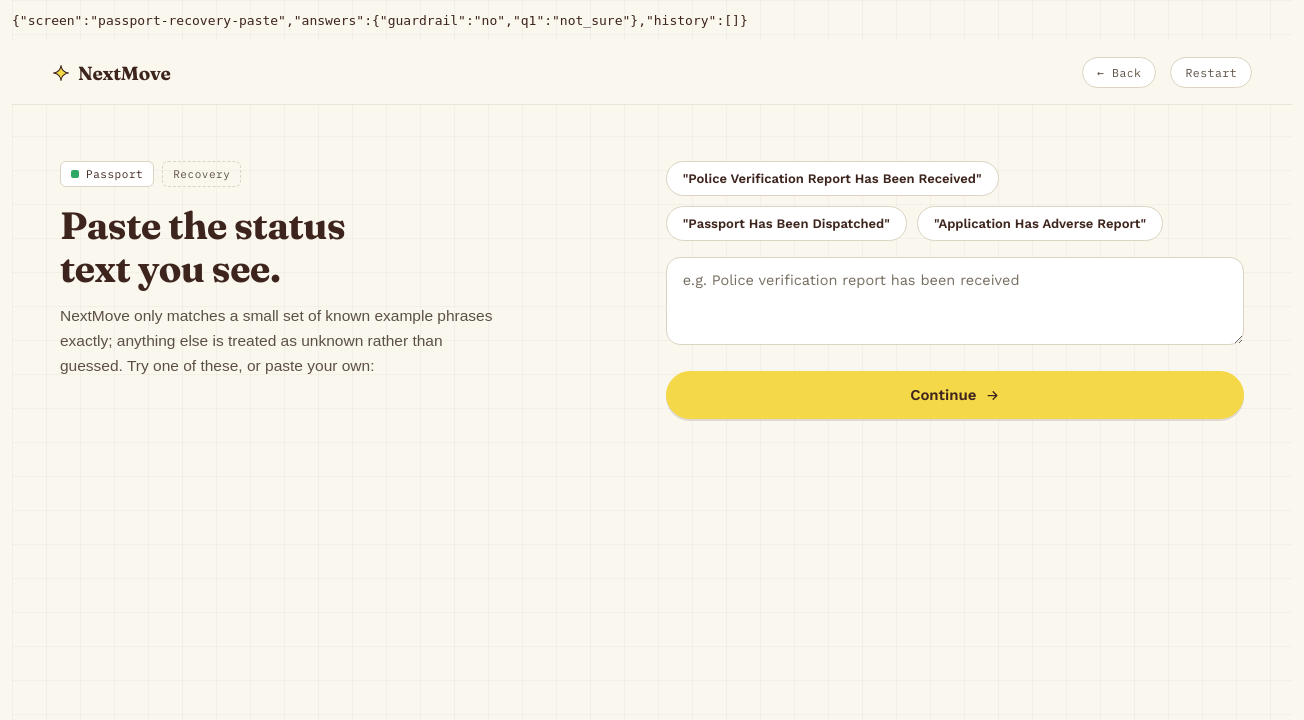
Scenario: passport flow › a matched paste sets q1 and routes to Q2
This screenshot has width=1304, height=720.
Step 1. Type "Police Verification Report Has Been Received" into the text box with placeholder "e.g. Police verification report has been received" → (955, 301), box [666,257,1244,345]
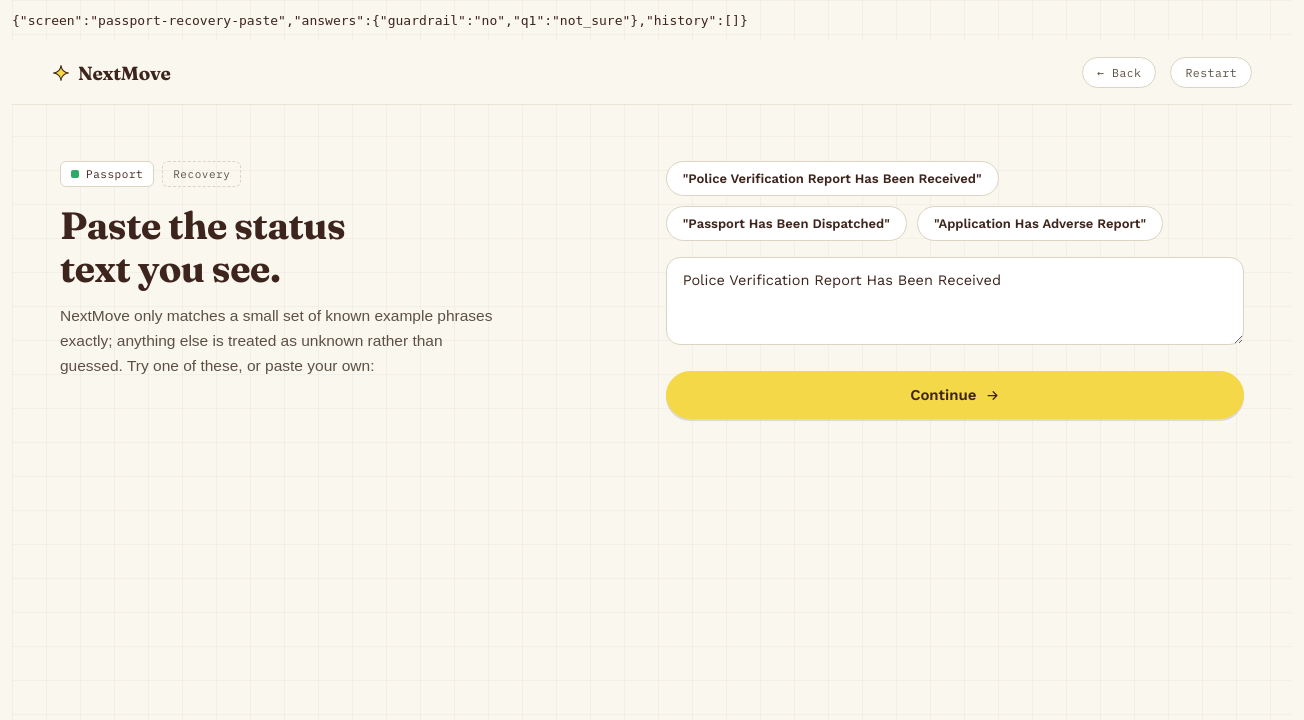
Step 2. Click the button "Continue" → (955, 395), box [666,371,1244,419]
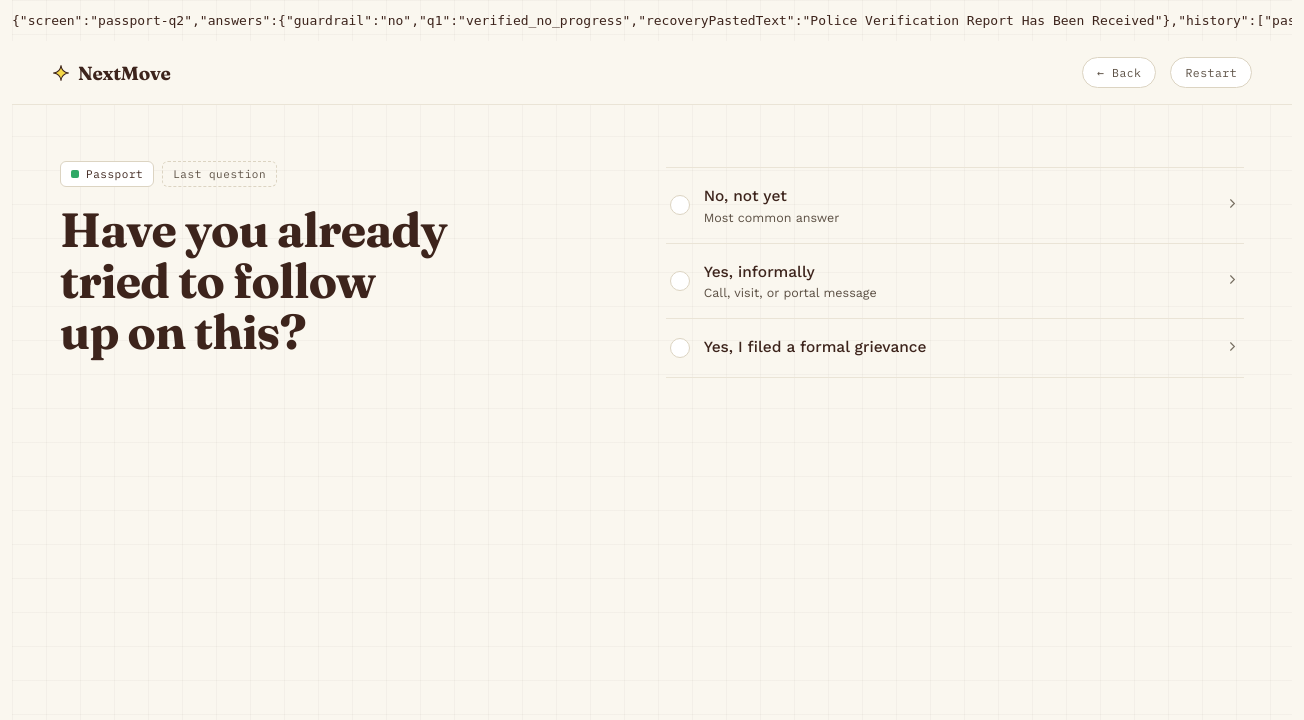
expect the heading "Have you already tried to follow up on this?" is shown: met, box [60,200,447,361]
